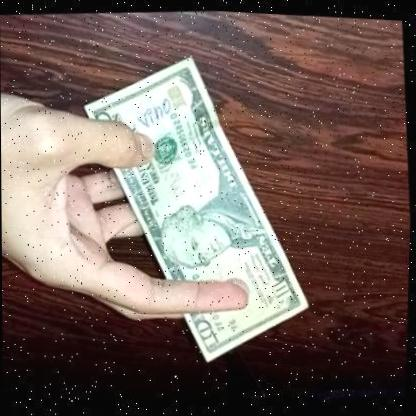ten-front: (71, 40, 324, 377)
